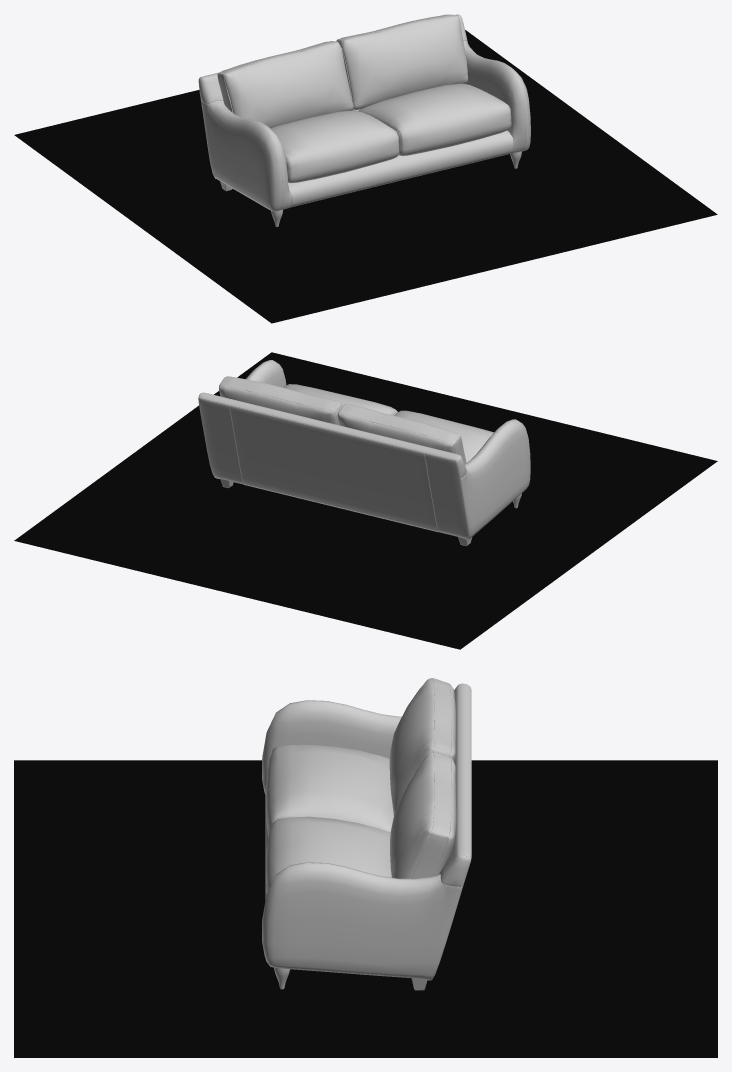
The picture shows the model from 3 angles, top to bottom: view 1: azimuth 30°, elevation 25°; view 2: azimuth 150°, elevation 25°; view 3: azimuth 270°, elevation 25°; orthographic projection. The views are drawn at different scales.
Visible parts, largest first — view 1: Plane001, VELVET001; view 2: Plane001, VELVET001; view 3: Plane001, VELVET001.
Part boxes in pixels (bbox=[...]): Plane001: bbox=[14, 30, 717, 323]; VELVET001: bbox=[198, 14, 530, 211]; Plane001: bbox=[14, 352, 717, 649]; VELVET001: bbox=[198, 360, 530, 539]; Plane001: bbox=[14, 760, 717, 1057]; VELVET001: bbox=[262, 678, 471, 980].
Bounding box in the file's own units: 334 × 83.26 × 334.
